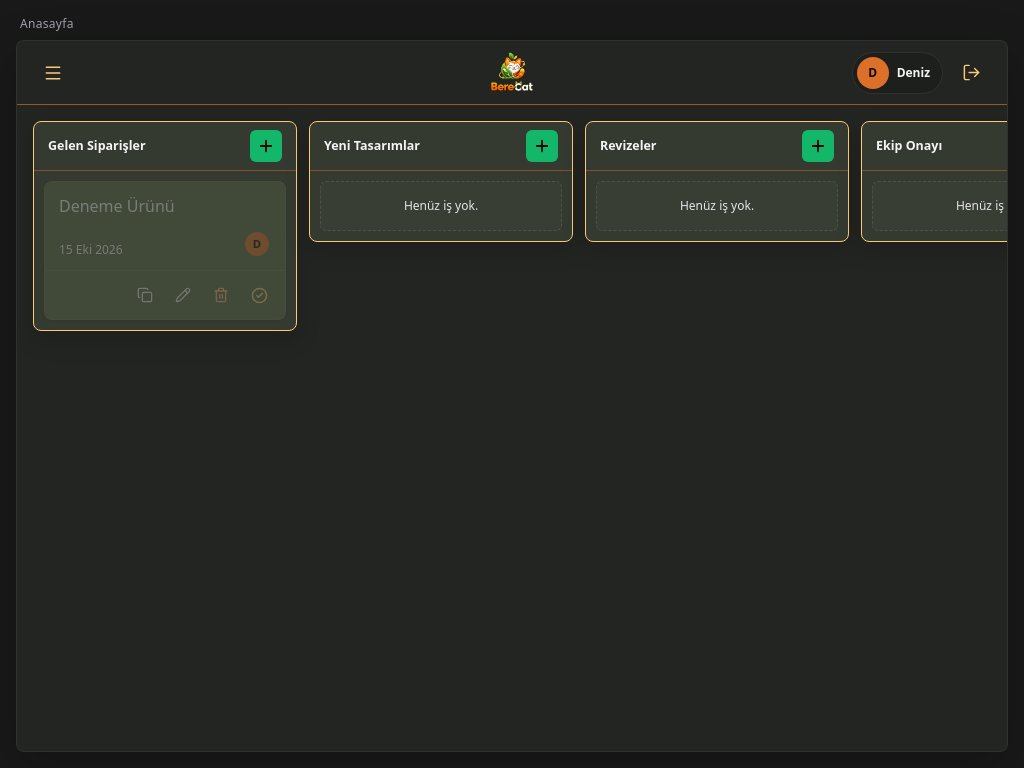
Test: Phase 02A iş oluşturma akışı › termini on iş günüyle doldurur ve elle değiştirilen tarihi korur
Click the button named "Gelen Siparişler modülüne iş ekle" at (266, 146), box [250, 130, 282, 162]
(page scrolled)
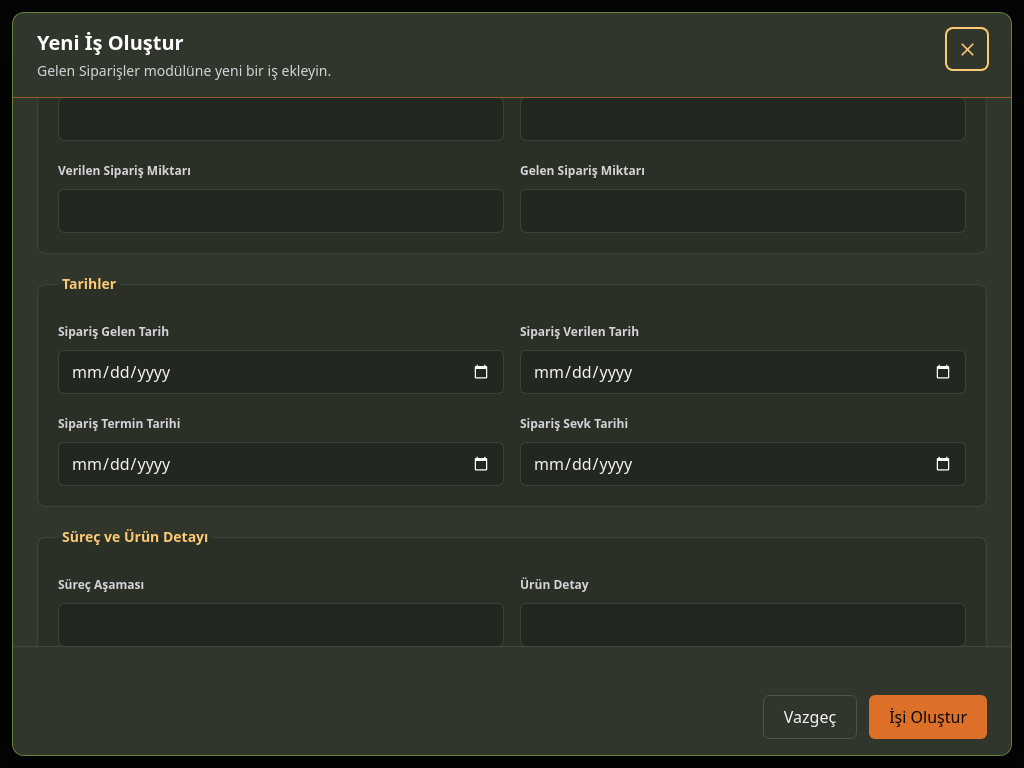
Type "2026-09-04" into the date field labelled "Sipariş Verilen Tarih" at (743, 372), box [520, 350, 966, 394]
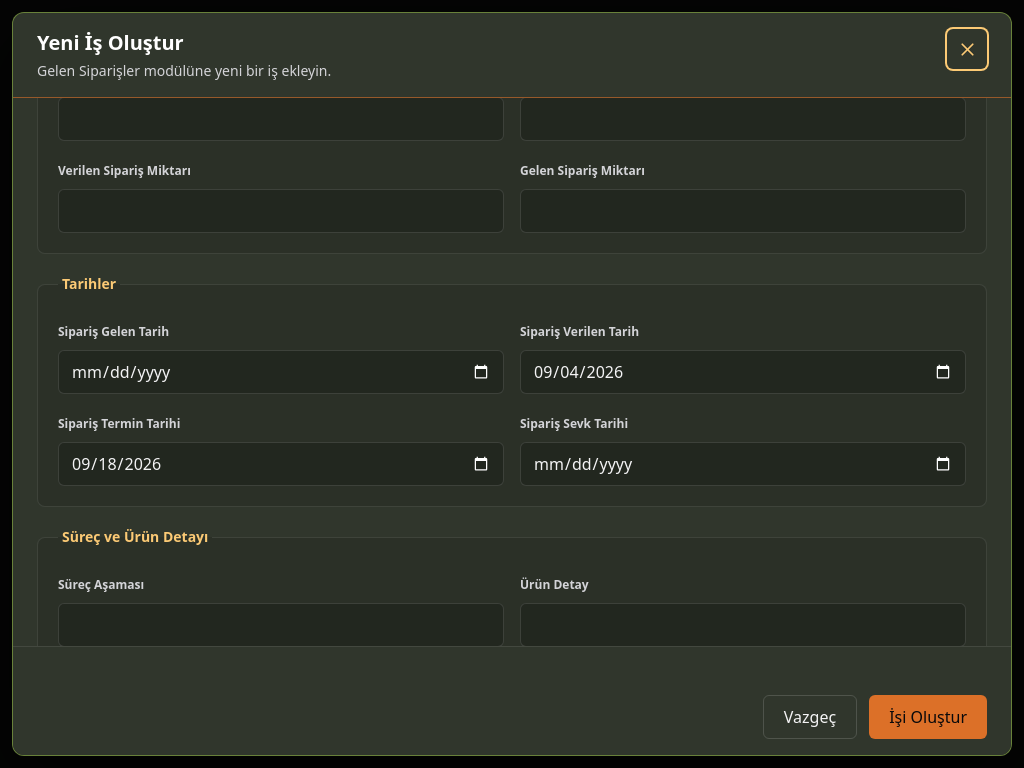
Expected: the date field labelled "Sipariş Termin Tarihi" holds "2026-09-18"
Type "2026-10-01" into the date field labelled "Sipariş Termin Tarihi" at (281, 464), box [58, 442, 504, 486]
Type "2026-09-07" into the date field labelled "Sipariş Verilen Tarih" at (743, 372), box [520, 350, 966, 394]
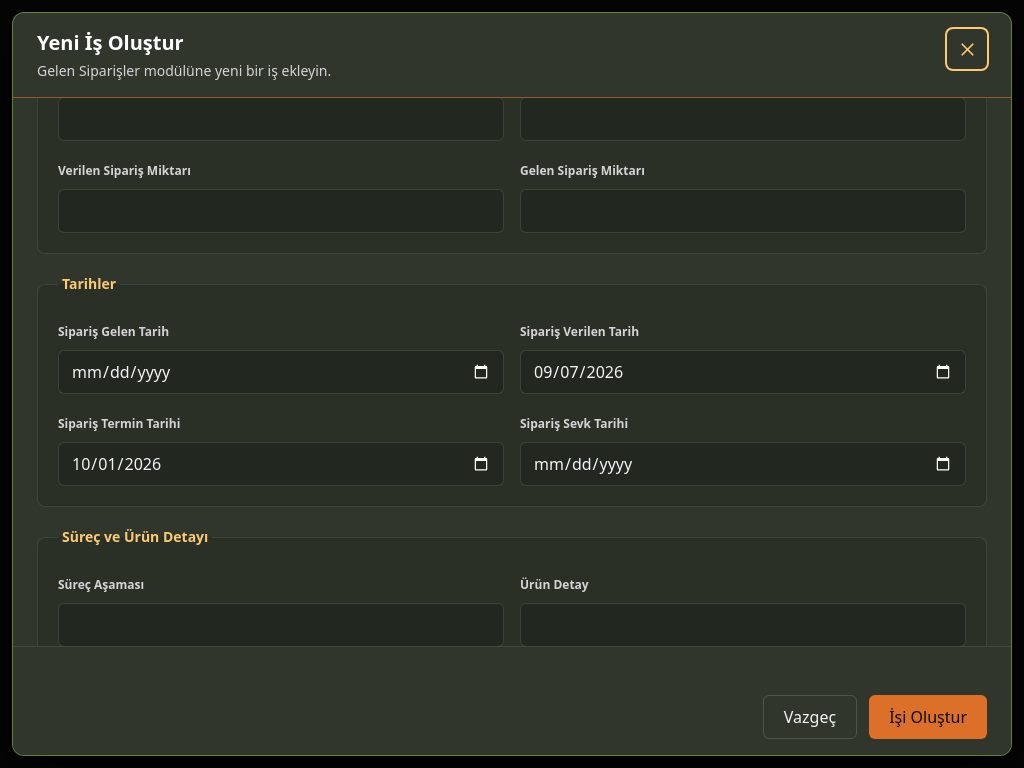
Click the button "Vazgeç" at (810, 717), box [763, 695, 857, 739]
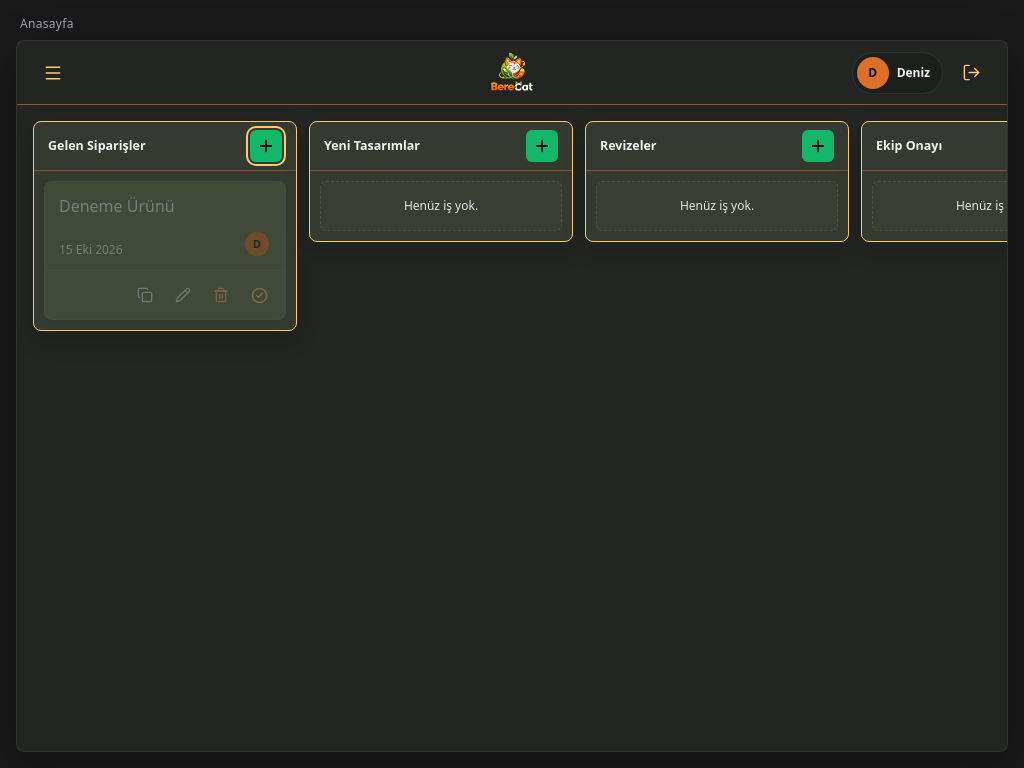
Click the button named "Gelen Siparişler modülüne iş ekle" at (266, 146), box [250, 130, 282, 162]
(page scrolled)
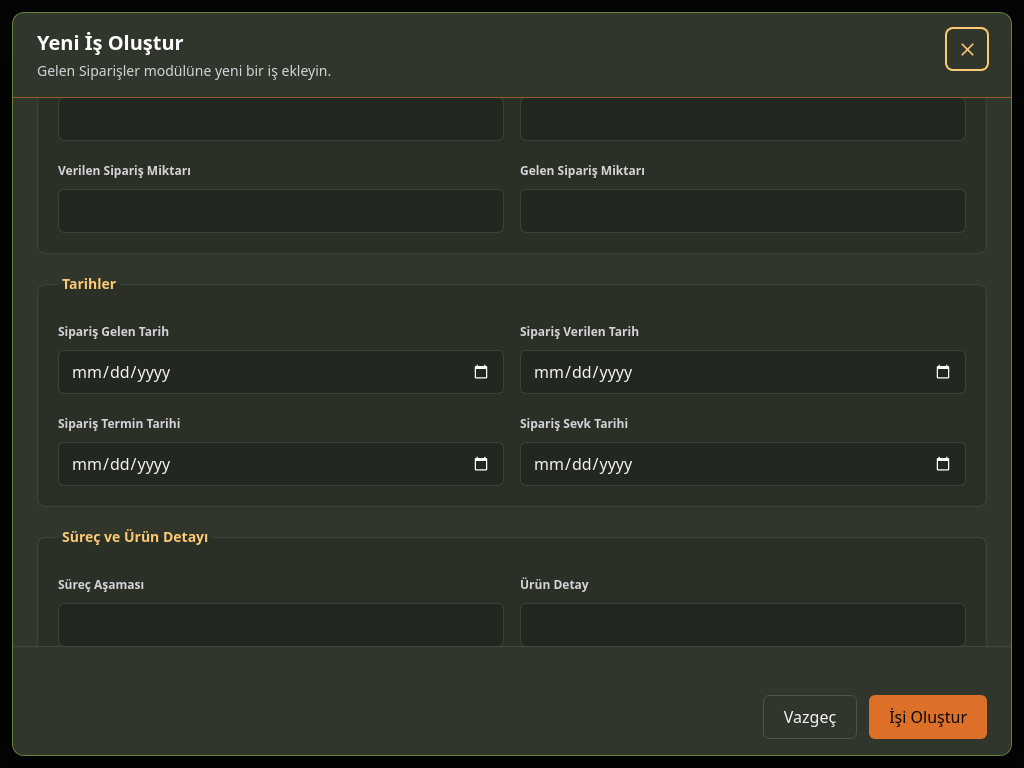
Type "2026-09-07" into the date field labelled "Sipariş Verilen Tarih" at (743, 372), box [520, 350, 966, 394]
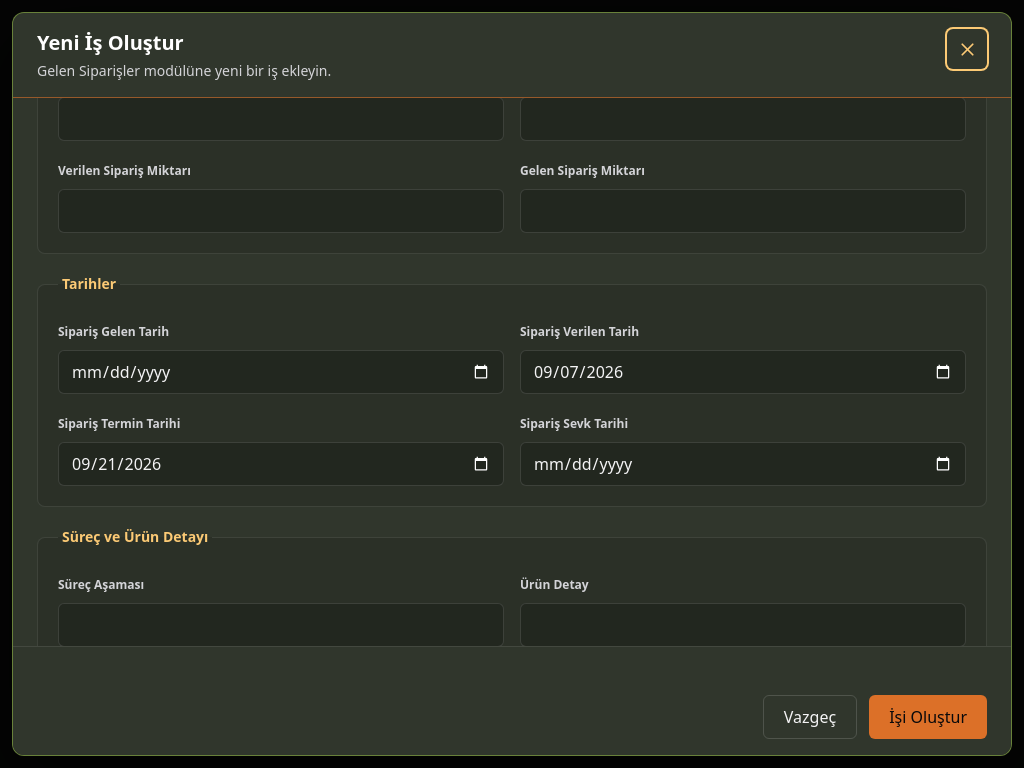
Expected: the date field labelled "Sipariş Termin Tarihi" holds "2026-09-21", [58, 442, 504, 486]
